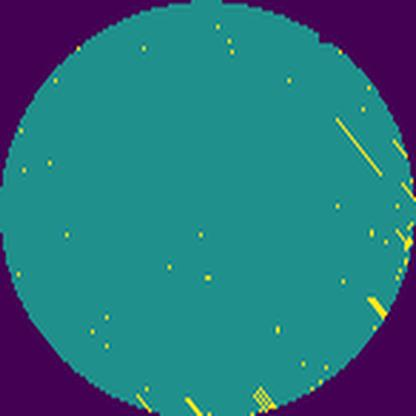Scratch: (332, 115, 387, 178), (249, 386, 277, 414)
